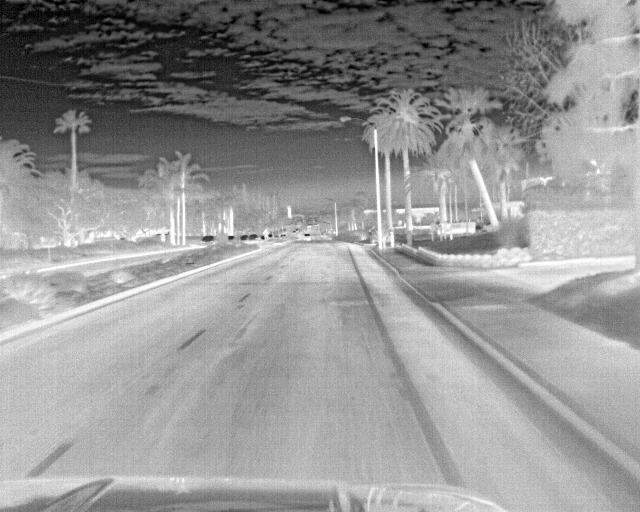car: (196, 235, 212, 249), (249, 234, 261, 247), (239, 232, 251, 244), (301, 232, 313, 242)
